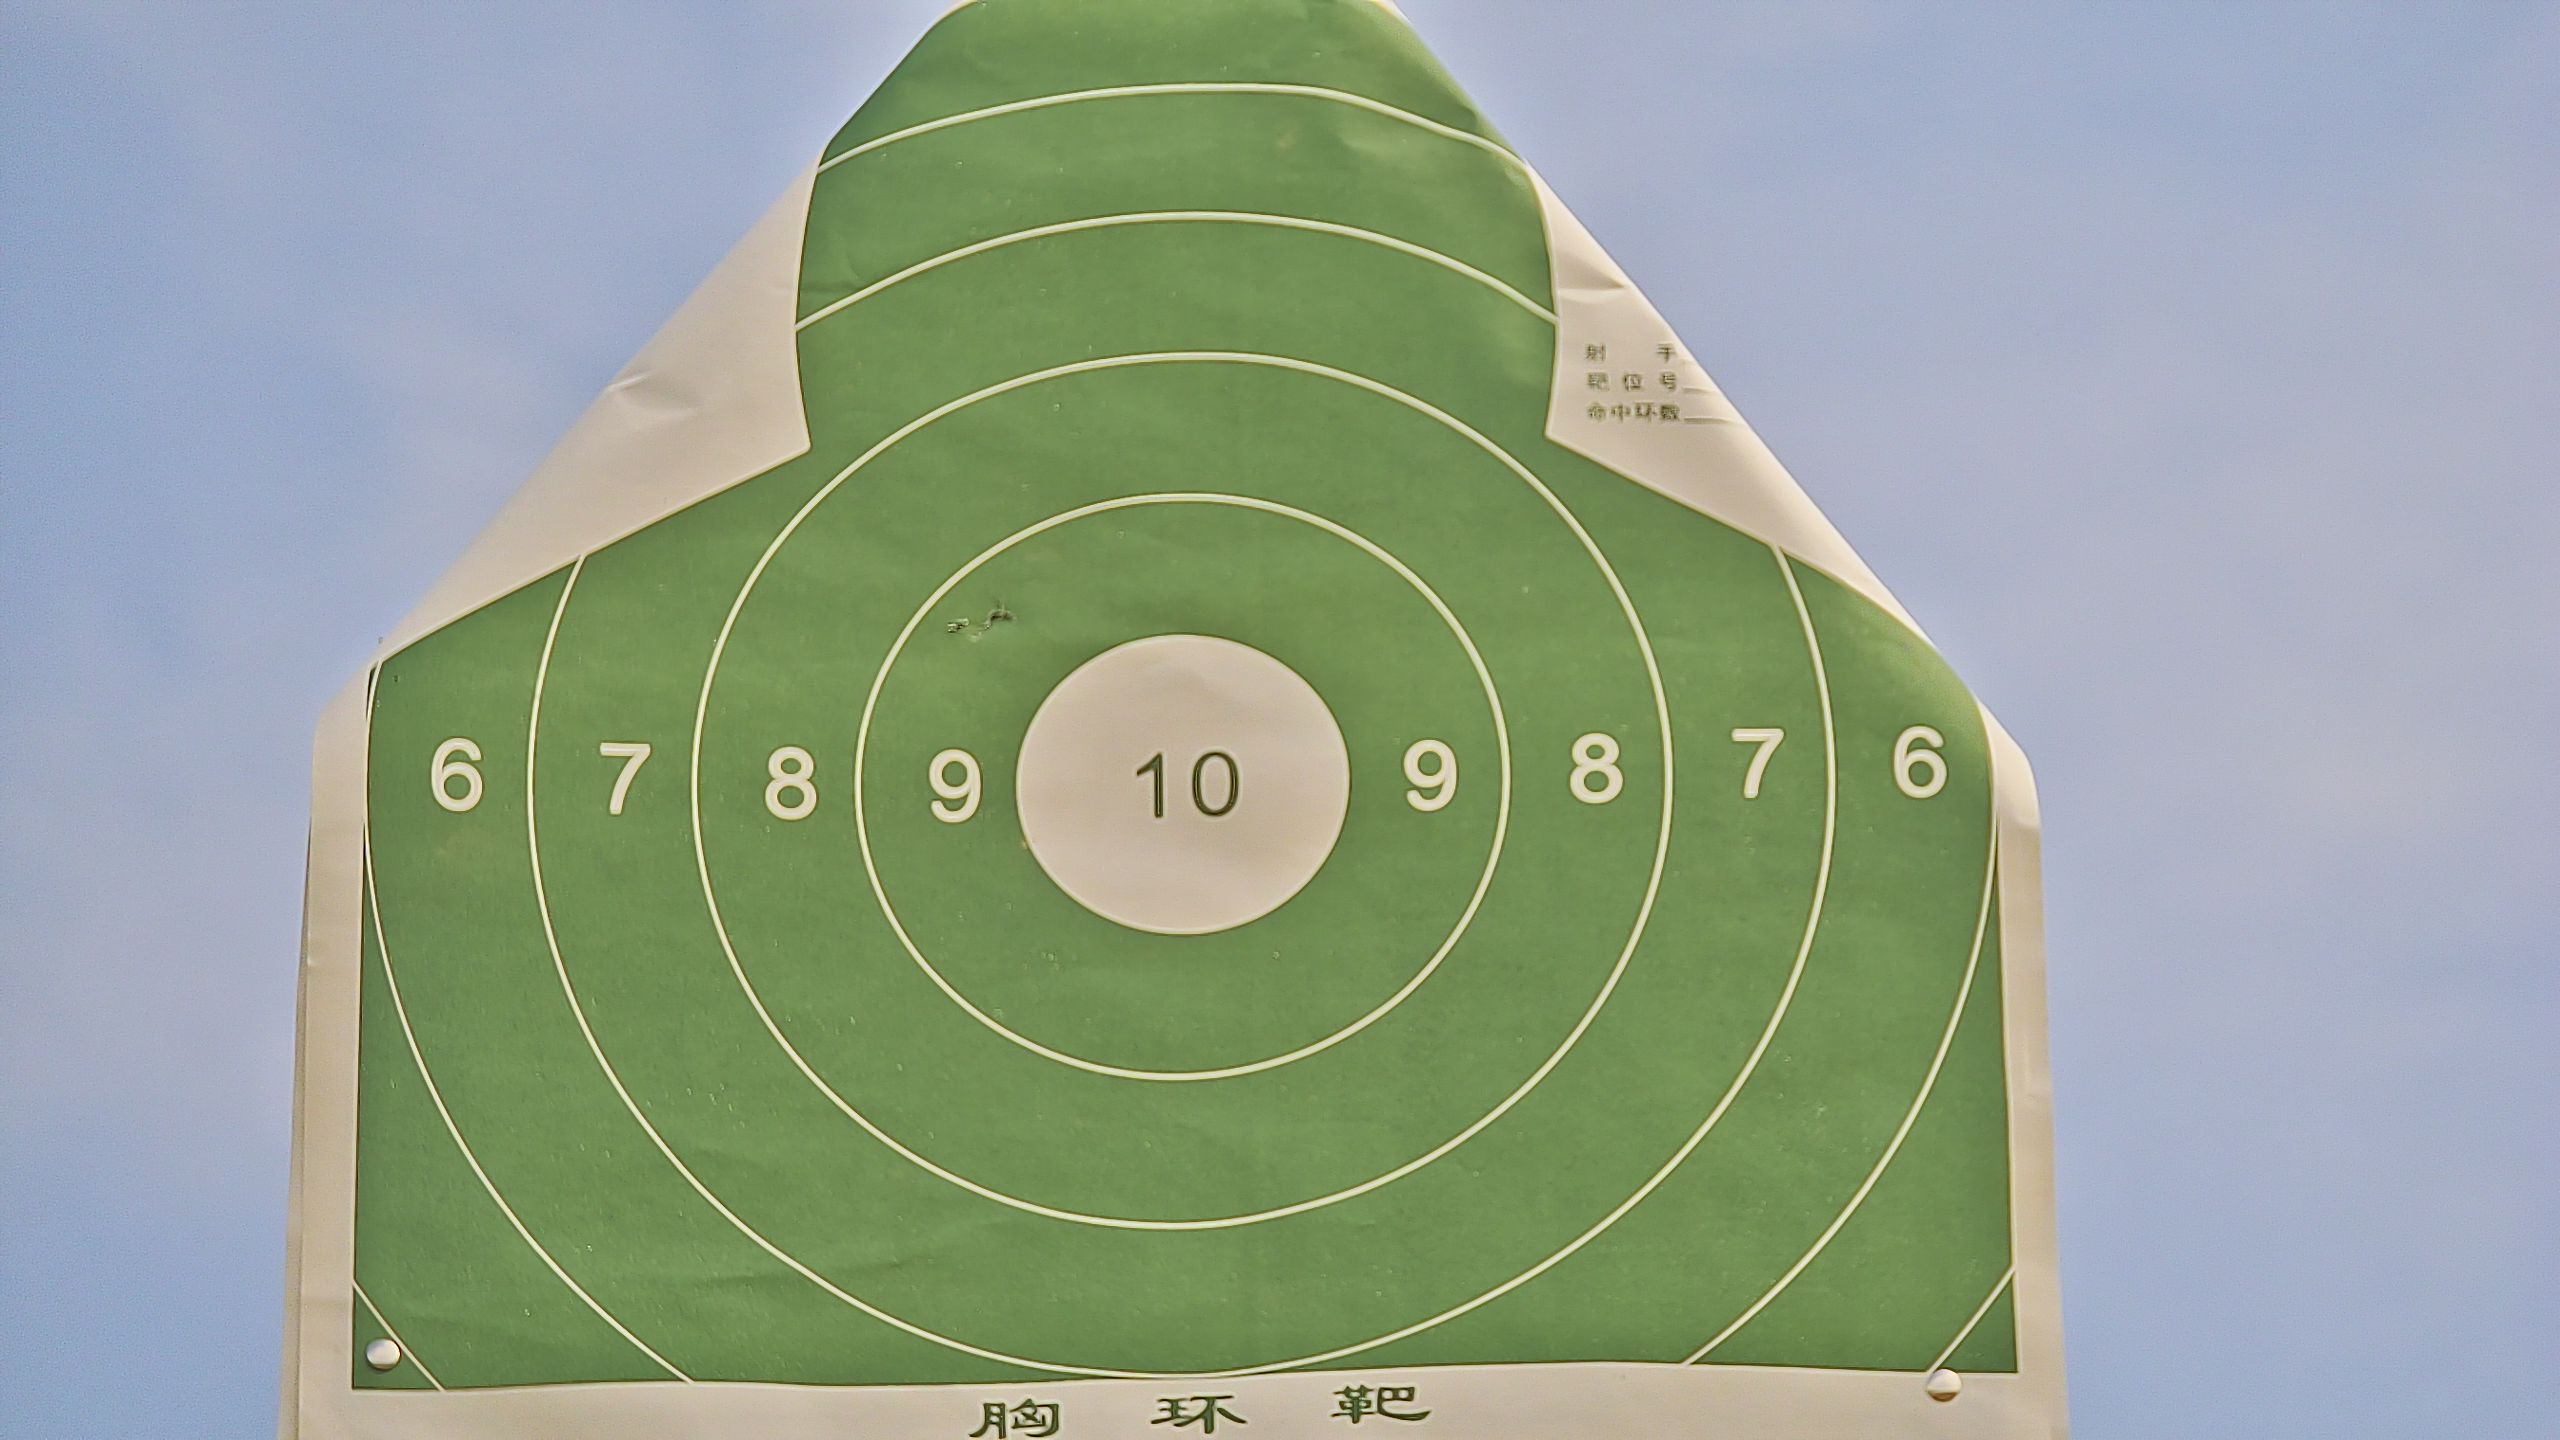target: (346, 5, 2027, 1387)
ten: (1009, 633, 1356, 937)
